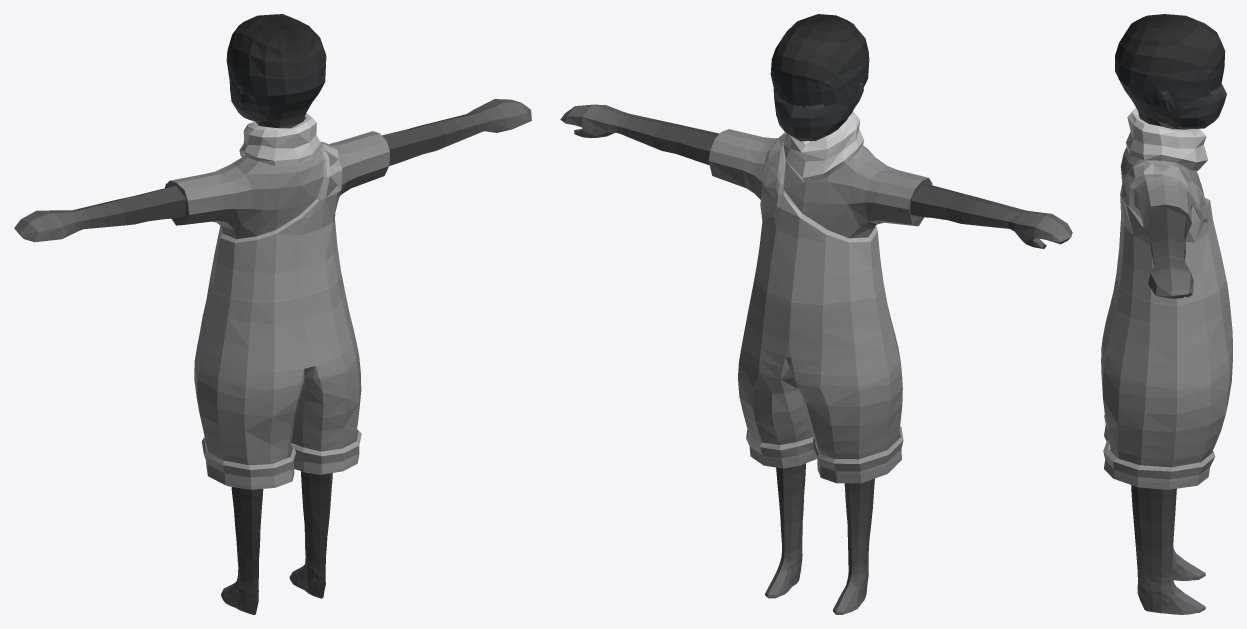
Rendered from CharSkyKid_Body_AP10Overalls_01.glb.
3 renders of one model, left to right at view 1: azimuth 30°, elevation 25°; view 2: azimuth 150°, elevation 25°; view 3: azimuth 270°, elevation 25°, orthographic.
Parts seen in each view (by area): view 1: CharSkyKid_Body_AP10Overalls_01; view 2: CharSkyKid_Body_AP10Overalls_01; view 3: CharSkyKid_Body_AP10Overalls_01.
Part boxes in pixels (x1=…): CharSkyKid_Body_AP10Overalls_01: x1=14, y1=14, x2=531, y2=614; CharSkyKid_Body_AP10Overalls_01: x1=560, y1=14, x2=1072, y2=614; CharSkyKid_Body_AP10Overalls_01: x1=1101, y1=14, x2=1232, y2=614.
Bounding box in the file's own units: 13.83 × 14.94 × 3.1.
1 material, 1 textured.
